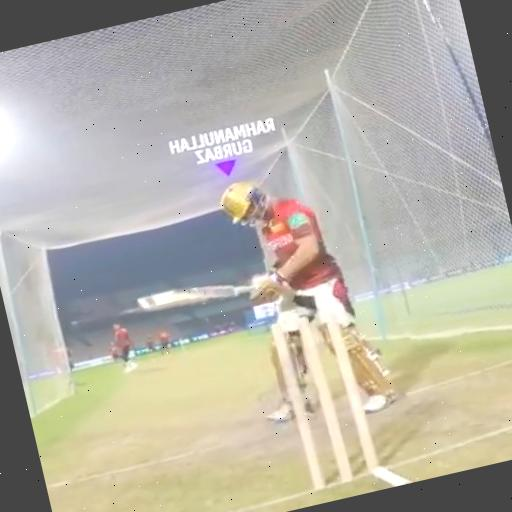Cricket bat: (138, 284, 251, 310)
